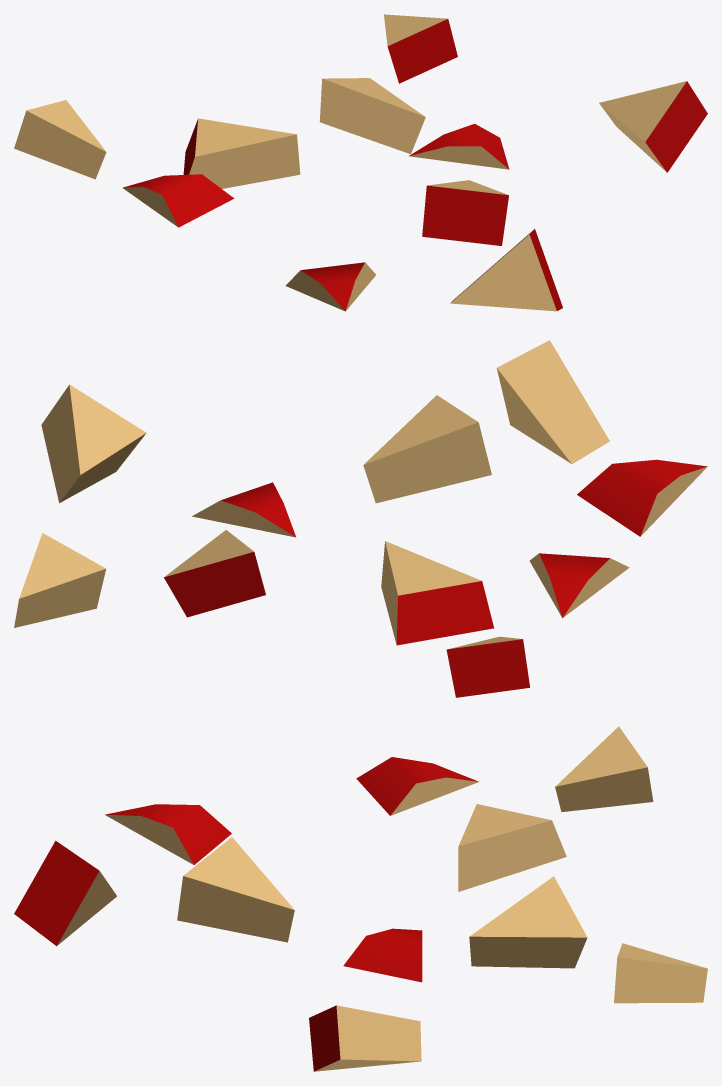
File: mesh_fishandchips_apple.fbx
The picture shows the model from 3 angles, top to bottom: view 1: azimuth 30°, elevation 25°; view 2: azimuth 150°, elevation 25°; view 3: azimuth 270°, elevation 25°; orthographic projection. The views are drawn at different scales.
Visible parts, largest first — view 1: mesh_fishandchips_apple; view 2: mesh_fishandchips_apple; view 3: mesh_fishandchips_apple.
Boxes of the visible parts, x1,y1,x2,y2 form: mesh_fishandchips_apple: (14, 14, 707, 311); mesh_fishandchips_apple: (14, 340, 707, 697); mesh_fishandchips_apple: (14, 726, 707, 1071).
Bounding box in the file's own units: 0.189 × 0.029 × 0.1894.
